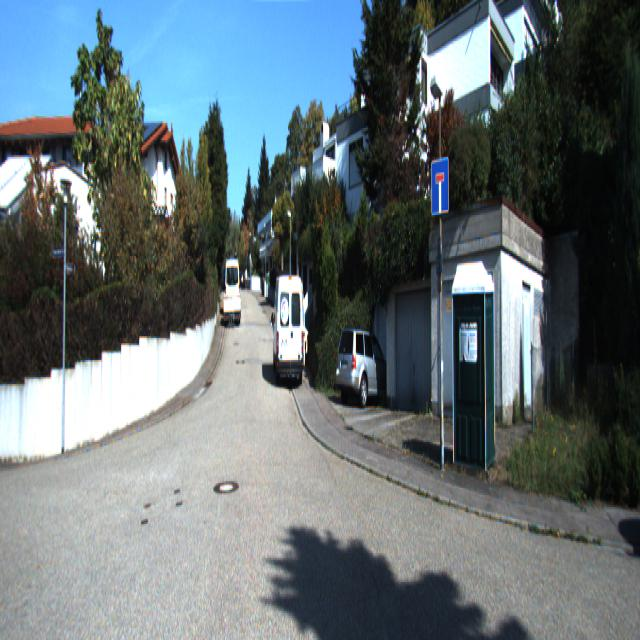Car: (333, 324, 398, 406), (272, 270, 307, 388), (225, 258, 240, 316), (224, 298, 242, 328)
